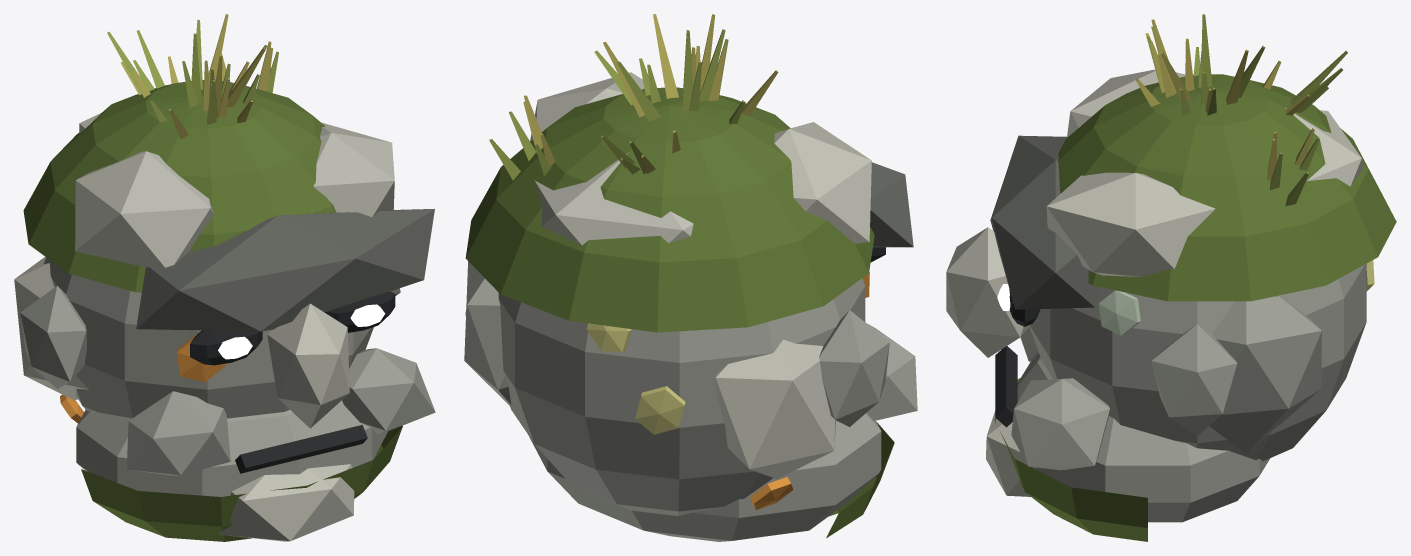
Rendered from stone_giant_head.glb.
3 views of the same model, side by side, from view 1: azimuth 30°, elevation 25°; view 2: azimuth 150°, elevation 25°; view 3: azimuth 270°, elevation 25° (orthographic). The views are drawn at different scales.
Parts seen in each view (by area): view 1: stone_giant_head; view 2: stone_giant_head; view 3: stone_giant_head.
Boxes of the visible parts, <box> form: stone_giant_head: <box>14,14,435,541</box>; stone_giant_head: <box>464,14,917,541</box>; stone_giant_head: <box>946,14,1396,541</box>.
Size of the model in its own units: 0.7037 by 0.8852 by 0.7322.
